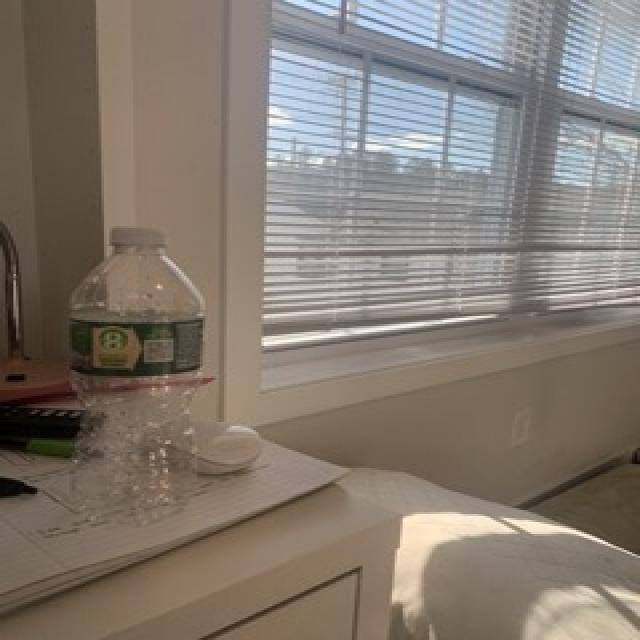water_bottle: (66, 225, 210, 533)
